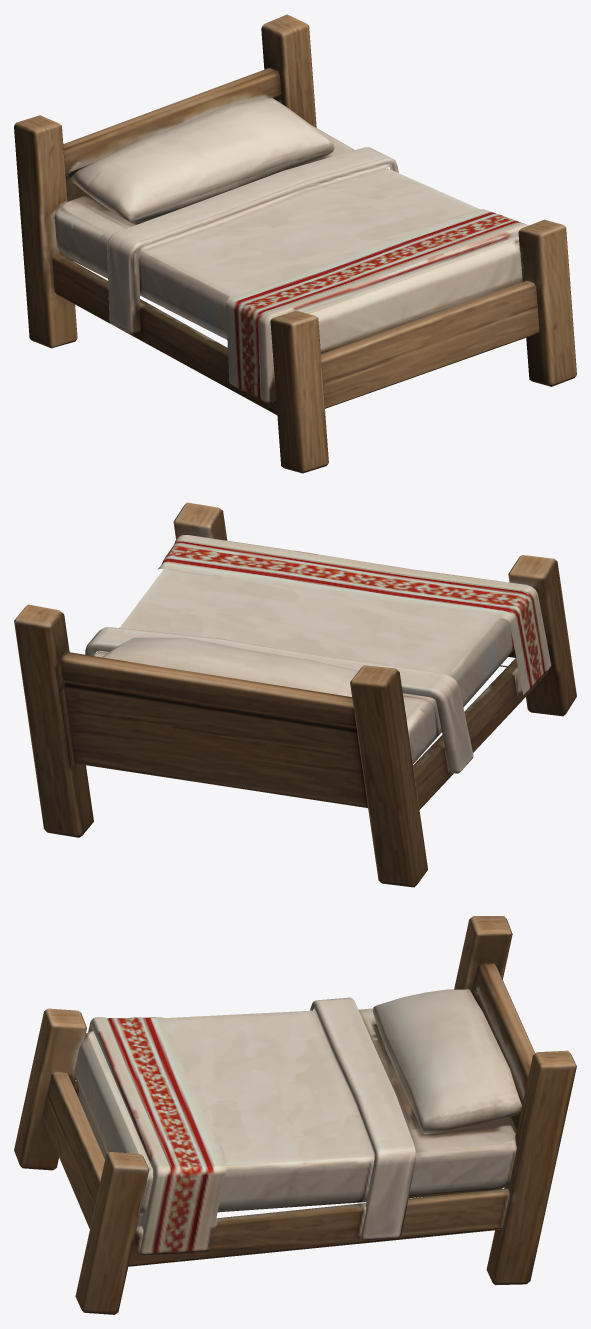
Rendered from act1_kit_v1_hospice_bed.glb.
3 views of the same model, one above another, from view 1: azimuth 30°, elevation 25°; view 2: azimuth 150°, elevation 25°; view 3: azimuth 270°, elevation 25° (orthographic). The views are drawn at different scales.
Visible parts, largest first — view 1: act1_kit_v1_hospice_bed; view 2: act1_kit_v1_hospice_bed; view 3: act1_kit_v1_hospice_bed.
Part boxes in pixels (<box>): act1_kit_v1_hospice_bed: <box>14,14,576,473</box>; act1_kit_v1_hospice_bed: <box>14,502,576,887</box>; act1_kit_v1_hospice_bed: <box>14,916,576,1314</box>.
Size of the model in its own units: 0.815 by 0.4436 by 1.
Materials: 1 (1 with a texture image).
